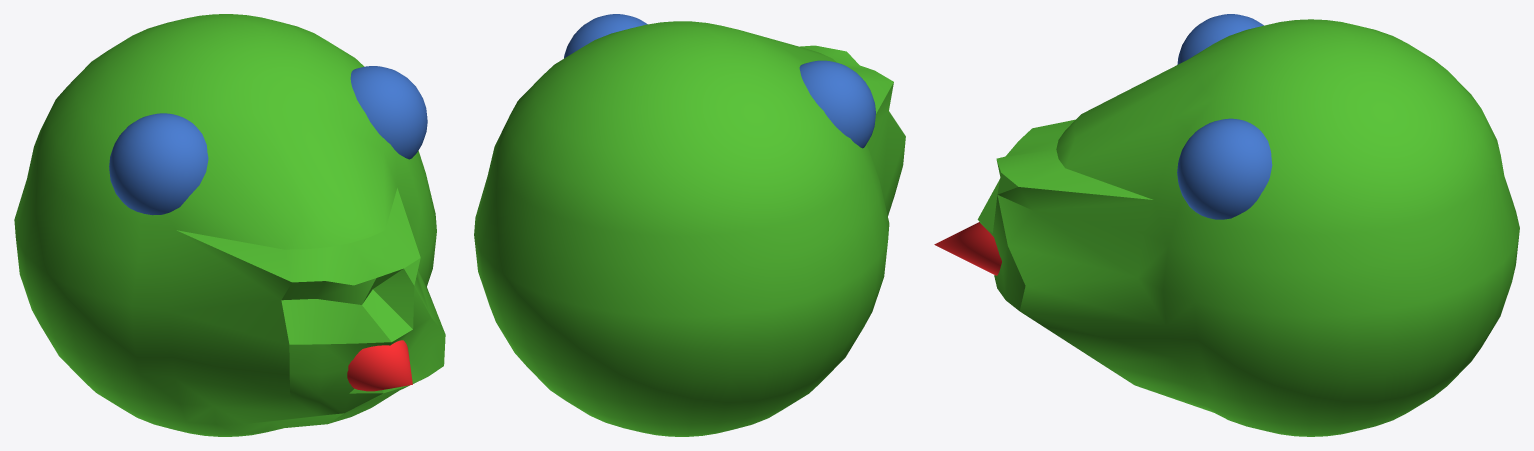
The model's file is snakeHead.dae.
3 views of the same model, side by side, from view 1: azimuth 30°, elevation 25°; view 2: azimuth 150°, elevation 25°; view 3: azimuth 270°, elevation 25° (orthographic).
Visible parts, largest first — view 1: Head, Right_eye, Left_eye, Tongue; view 2: Head, Right_eye, Left_eye; view 3: Head, Left_eye, Tongue, Right_eye.
Boxes of the visible parts, x1,y1,x2,y2 form: Head: (14,14,445,436); Right_eye: (109,113,208,215); Left_eye: (350,66,427,159); Tongue: (347,340,412,391); Head: (474,21,905,436); Right_eye: (799,60,875,148); Left_eye: (564,14,647,58); Head: (977,19,1519,436); Left_eye: (1177,118,1272,219); Tongue: (934,222,1001,275); Right_eye: (1177,14,1263,64).
Bounding box in the file's own units: 0.02 × 0.02 × 0.028.
